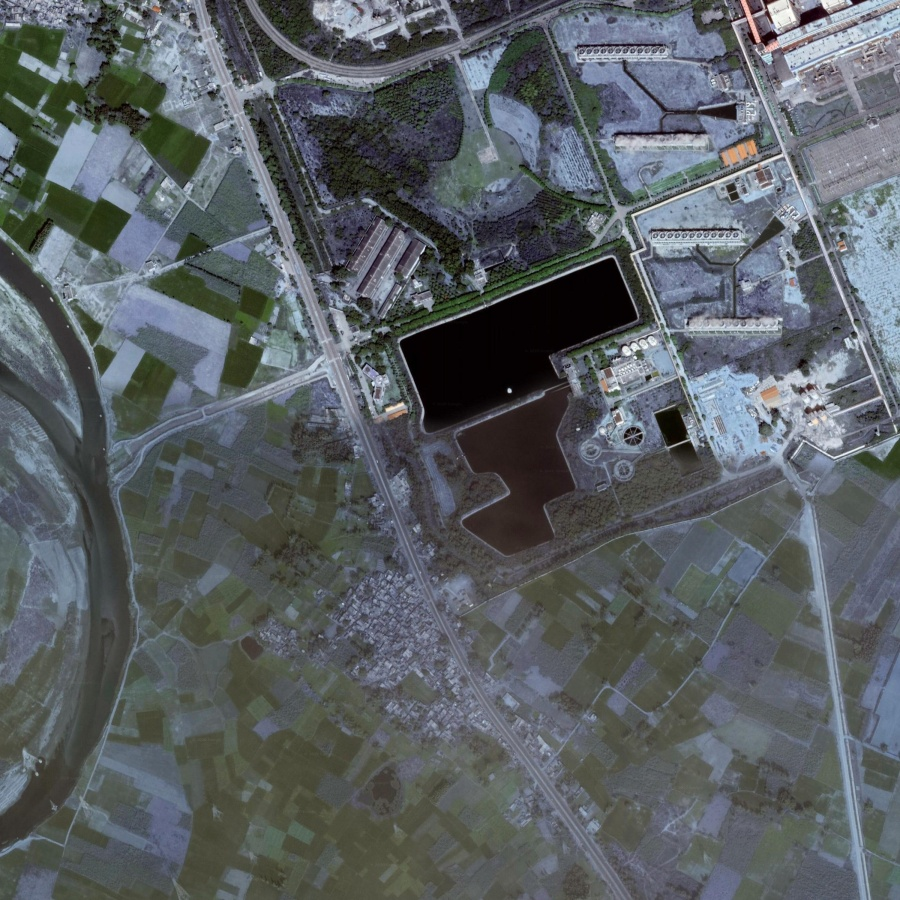PowerPlant: (379, 248, 649, 476)
